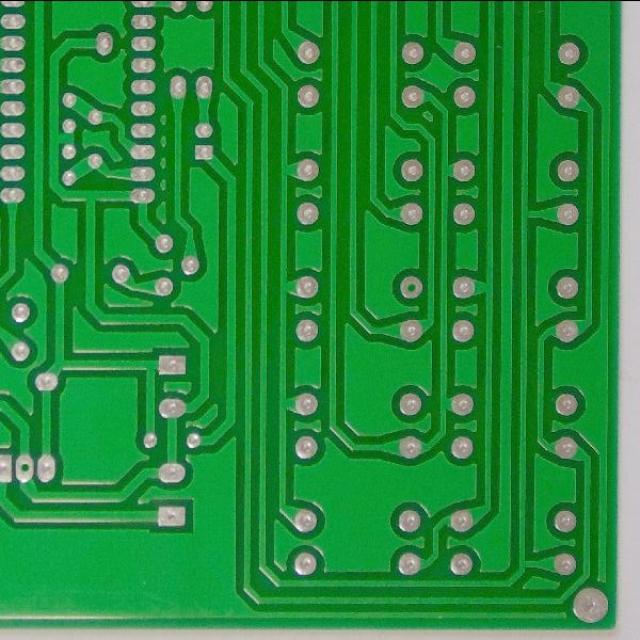Missing_Hole: (398, 273, 424, 302), (14, 454, 36, 484)
